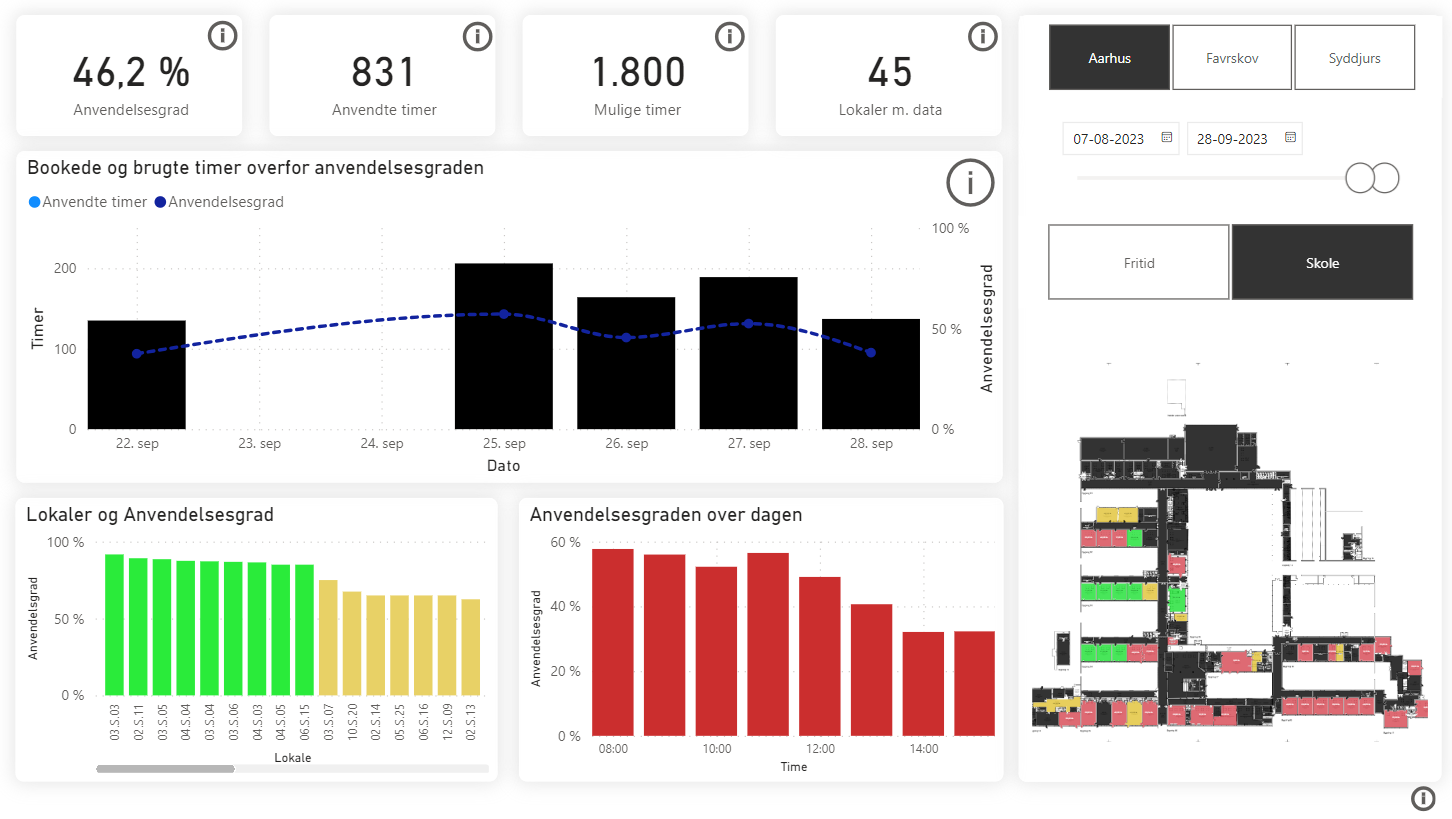

The page's visual inventory and layout, read from the dashboard file:
{"tool":"powerbi","page":{"name":"Generel anvendelsesgrad","canvas":[1280,720],"ordinal":12},"visuals":[{"type":"shape","box":[900,24,366,663],"z":0},{"type":"PBI_CV_815282F9_27F5_4950_9430_E910E0A8DB6A","title":"Plantegning","fields":{"Category":["4_FEATURIZ_LOKALER.ID"],"Y":["1 DAX.Generel anvendelsesgrad"]},"box":[900,285,365,402],"z":1000},{"type":"lineClusteredColumnComboChart","title":"Bookede og brugte timer overfor anvendelsesgraden","fields":{"Y":["1 DAX.Generel Anvendelse"],"Category":["4_FEATURIZ_DATOER.DATE"],"Y2":["1 DAX.Generel anvendelsesgrad"]},"box":[32.2,142.2,853.3,286.7],"z":2000},{"type":"lineClusteredColumnComboChart","title":"Lokaler og Anvendelsesgrad","fields":{"Y":["1 DAX.Generel anvendelsesgrad"],"Category":["4_FEATURIZ_LOKALER.ID"]},"box":[32,442,417,245],"z":3000},{"type":"card","fields":{"Values":["Sum(Driftoptimeringsmodel.IN_USE)"]},"box":[251.5,24.4,195.6,104.4],"z":4000},{"type":"slicer","fields":{"Values":["4_FEATURIZ_DATOER.DATE"]},"box":[924.5,107.3,317.3,103.6],"z":5000},{"type":"slicer","fields":{"Values":["1_RAW_KOMMUNER_SKOLER.KOMMUNE"]},"box":[900.5,25.2,366,70.7],"z":6000},{"type":"lineClusteredColumnComboChart","title":"Anvendelsesgraden over dagen","fields":{"Y":["1 DAX.Generel anvendelsesgrad"],"Category":["4_FEATURIZ_DATOER.TIME"]},"box":[467,442,419,245],"z":7000},{"type":"card","fields":{"Values":["Count(Driftoptimeringsmodel.ID)"]},"box":[690,24.4,195.6,104.4],"z":8000},{"type":"card","fields":{"Values":["1 DAX.Generel anvendelsesgrad"]},"box":[32.2,24.4,195.6,104.4],"z":9000},{"type":"slicer","fields":{"Values":["4_FEATURIZ_DATOER.TIDSPUNKT_TYPE"]},"box":[900,197.8,365.6,80],"z":10000},{"type":"card","fields":{"Values":["1 DAX.Mulige timer"]},"box":[470.7,24.4,195.6,104.4],"z":11000},{"type":"actionButton","box":[1235,687,30,31],"z":12000},{"type":"actionButton","box":[851,25,35,35],"z":13000},{"type":"actionButton","box":[632,25,35,35],"z":14000},{"type":"actionButton","box":[414,25,35,35],"z":15000},{"type":"actionButton","box":[193,24,35,35],"z":16000},{"type":"actionButton","box":[831,142,54,55],"z":17000}]}

Visuals, with their boxes in screenshot pixels (x1, y1, x2, y2), scaled from the page's 1280x720 canvas onto the 1452x819 screenshot:
shape: Rect(1021, 27, 1436, 781)
"Plantegning" PBI_CV_815282F9_27F5_4950_9430_E910E0A8DB6A: Rect(1021, 324, 1435, 781)
"Bookede og brugte timer overfor anvendelsesgraden" lineClusteredColumnComboChart: Rect(37, 162, 1004, 488)
"Lokaler og Anvendelsesgrad" lineClusteredColumnComboChart: Rect(36, 503, 509, 781)
card - Sum(Driftoptimeringsmodel.IN_USE): Rect(285, 28, 507, 147)
slicer - 4_FEATURIZ_DATOER.DATE: Rect(1049, 122, 1409, 240)
slicer - 1_RAW_KOMMUNER_SKOLER.KOMMUNE: Rect(1022, 29, 1437, 109)
"Anvendelsesgraden over dagen" lineClusteredColumnComboChart: Rect(530, 503, 1005, 781)
card - Count(Driftoptimeringsmodel.ID): Rect(783, 28, 1005, 147)
card - 1 DAX.Generel anvendelsesgrad: Rect(37, 28, 258, 147)
slicer - 4_FEATURIZ_DATOER.TIDSPUNKT_TYPE: Rect(1021, 225, 1436, 316)
card - 1 DAX.Mulige timer: Rect(534, 28, 756, 147)
actionButton: Rect(1401, 781, 1435, 817)
actionButton: Rect(965, 28, 1005, 68)
actionButton: Rect(717, 28, 757, 68)
actionButton: Rect(470, 28, 509, 68)
actionButton: Rect(219, 27, 259, 67)
actionButton: Rect(943, 162, 1004, 224)
